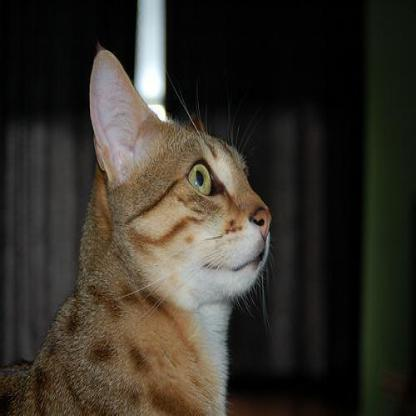cat: (0, 47, 271, 415)
